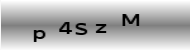4: (57, 21, 73, 35)
M: (120, 12, 141, 27)
S: (74, 21, 88, 36)
p: (32, 28, 46, 43)
z: (94, 22, 108, 34)
